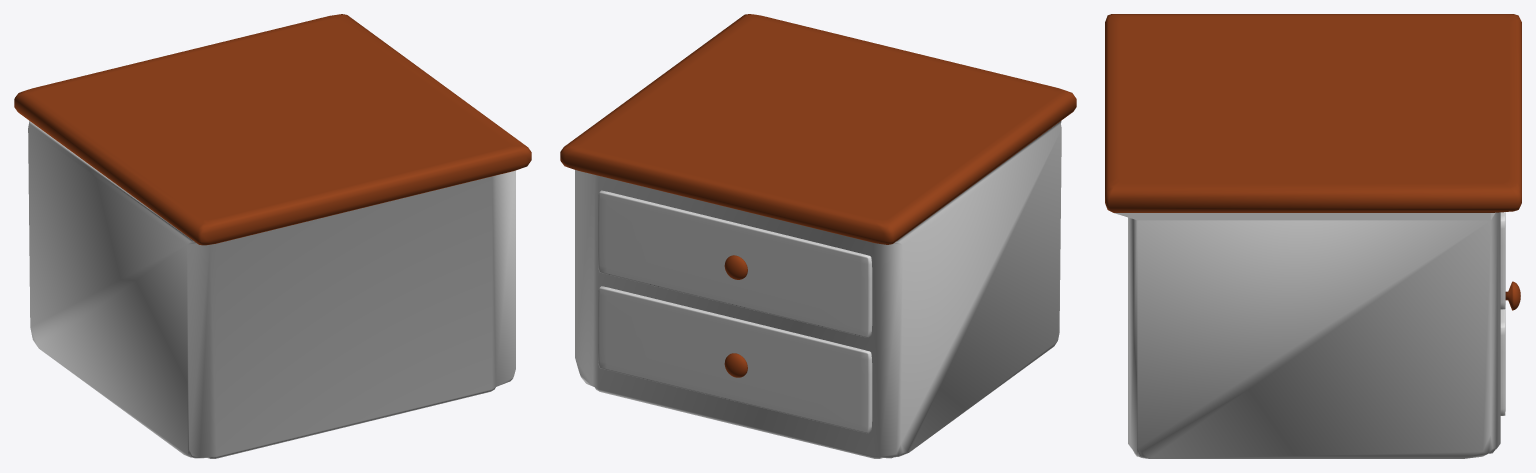
The model's file is BasicBenchWideDrawers.glb.
3 renders of one model, left to right at view 1: azimuth 30°, elevation 25°; view 2: azimuth 150°, elevation 25°; view 3: azimuth 270°, elevation 25°, orthographic. The views are drawn at different scales.
Visible parts, largest first — view 1: Sphere.003; view 2: Sphere.003; view 3: Sphere.003.
Part boxes in pixels (x1,y1,x2,y2): Sphere.003: [14, 14, 531, 458]; Sphere.003: [560, 14, 1076, 458]; Sphere.003: [1105, 14, 1521, 458].
Bounding box in the file's own units: 0.9205 × 0.6511 × 0.8961.
